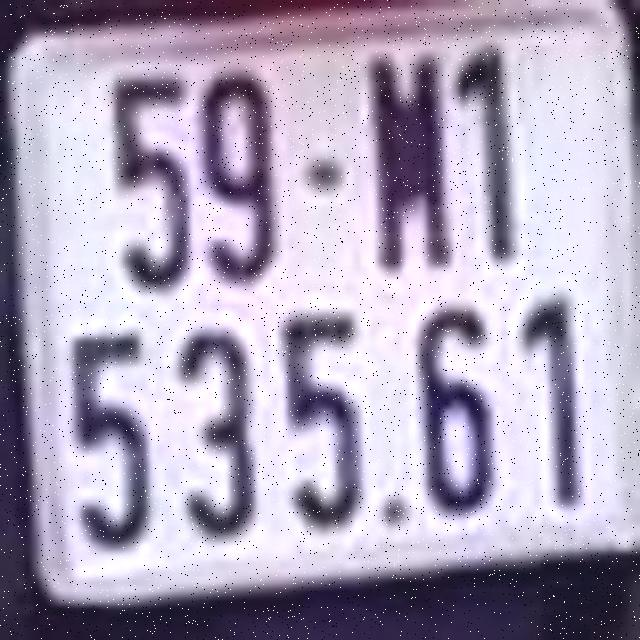1: (519, 289, 600, 510), (458, 45, 526, 265)
3: (174, 322, 258, 541)
5: (66, 326, 155, 551), (108, 70, 195, 290), (282, 309, 368, 530)
6: (414, 297, 498, 517)
9: (200, 66, 280, 287)
M: (369, 47, 453, 276)
